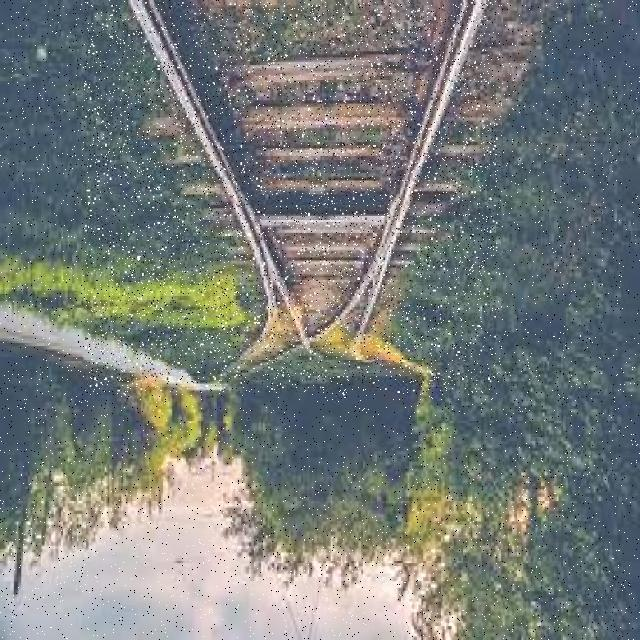rail: (85, 4, 501, 395)
